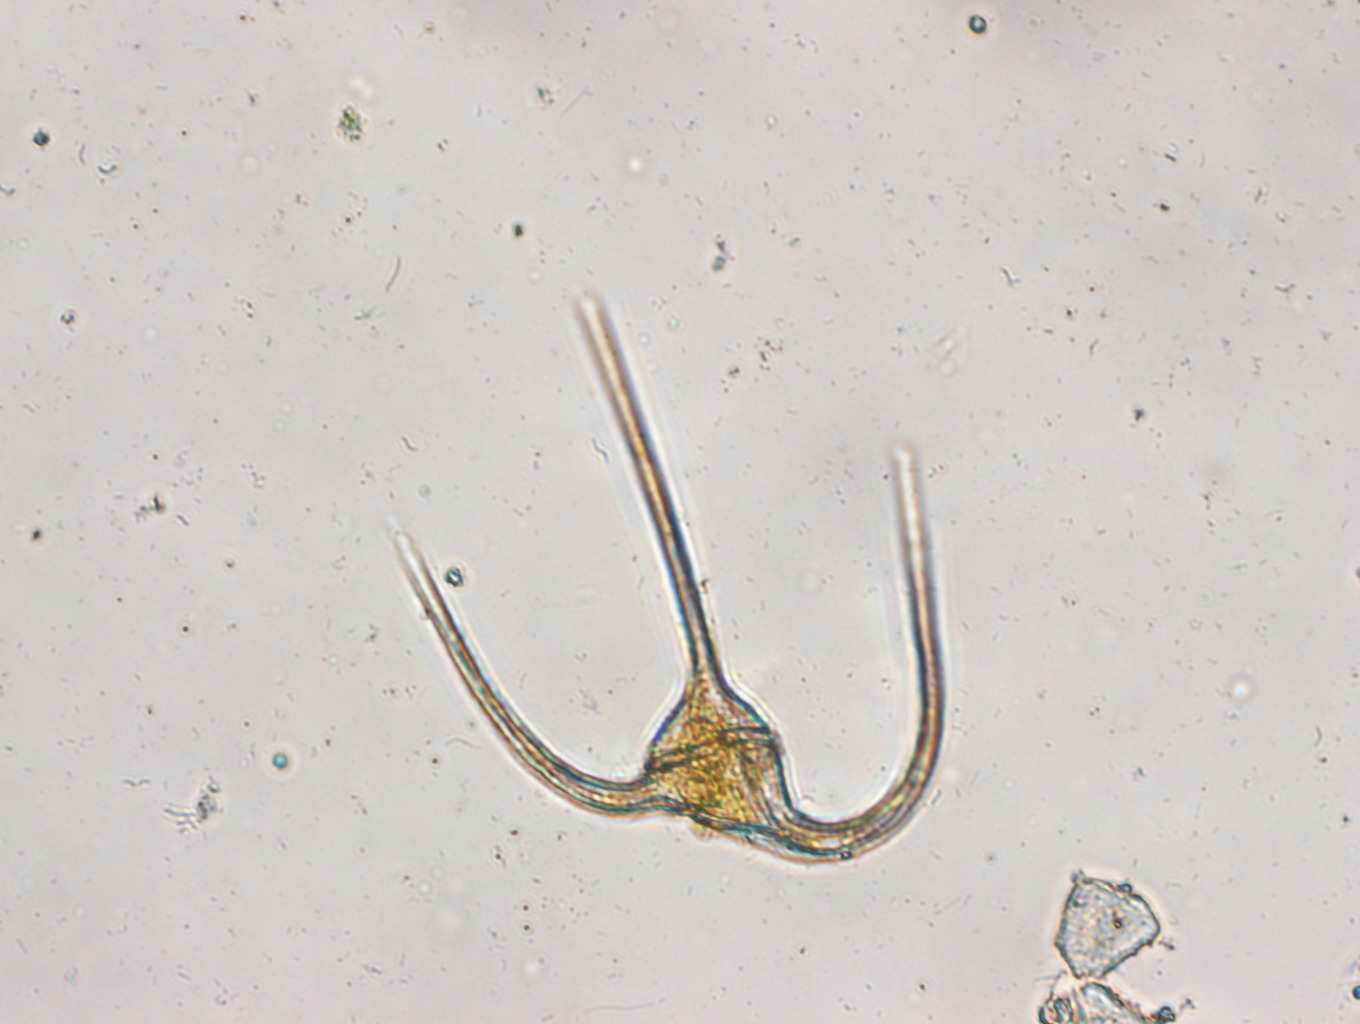ceratium trichoceros: (380, 282, 961, 876)
